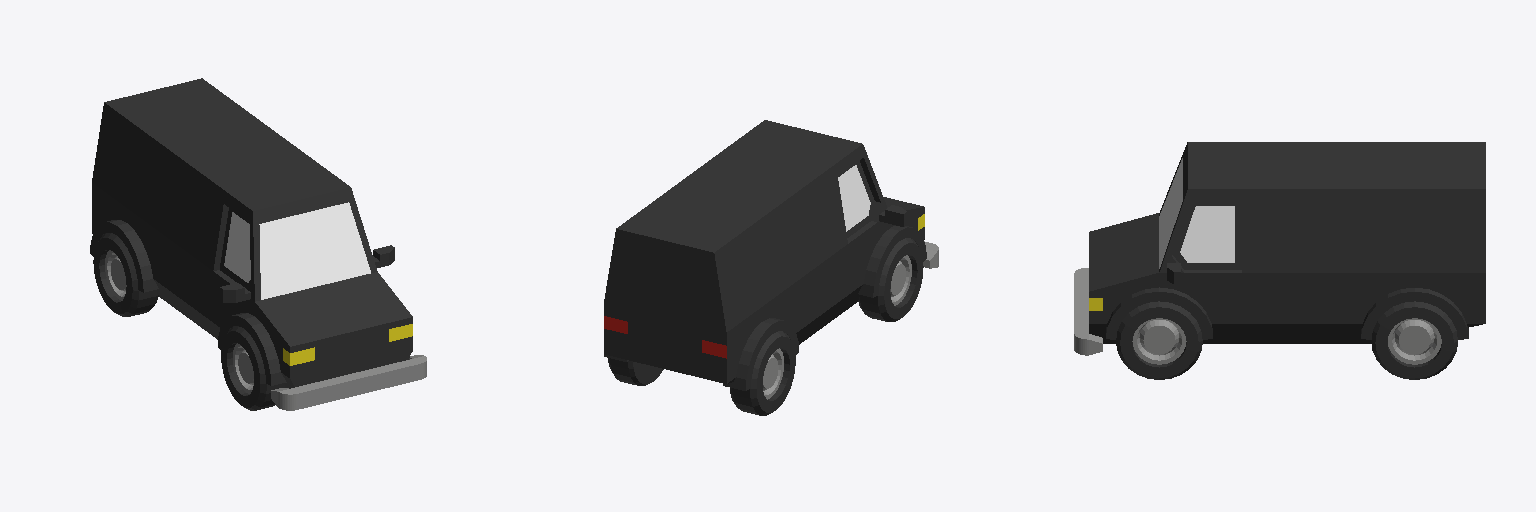
File: van_black.obj
3 views of the same model, side by side, from view 1: azimuth 30°, elevation 25°; view 2: azimuth 150°, elevation 25°; view 3: azimuth 270°, elevation 25° (orthographic).
Visible parts, largest first — view 1: mergedBlocks; view 2: mergedBlocks; view 3: mergedBlocks.
Part boxes in pixels (x1,y1,x2,y2): mergedBlocks: (90, 78, 426, 410); mergedBlocks: (604, 120, 938, 415); mergedBlocks: (1074, 142, 1485, 379).
Bounding box in the file's own units: 1.4 × 1.41 × 2.9.